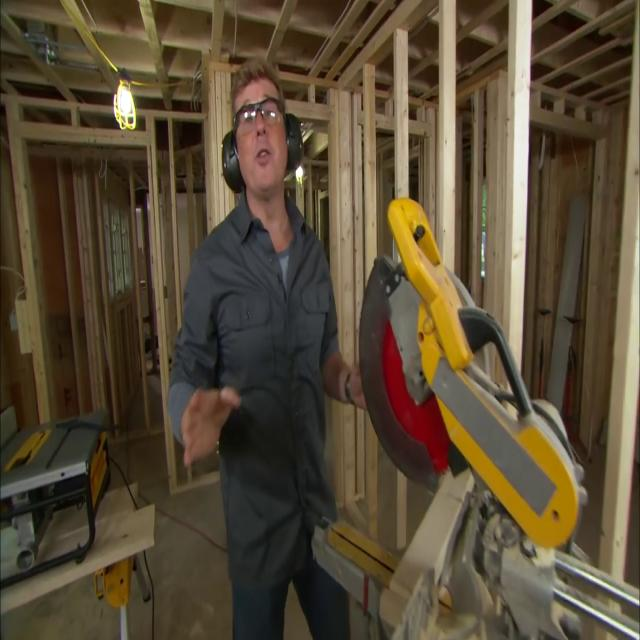earmuff: (218, 126, 246, 194), (281, 106, 305, 181)
glasses: (231, 97, 286, 140)
